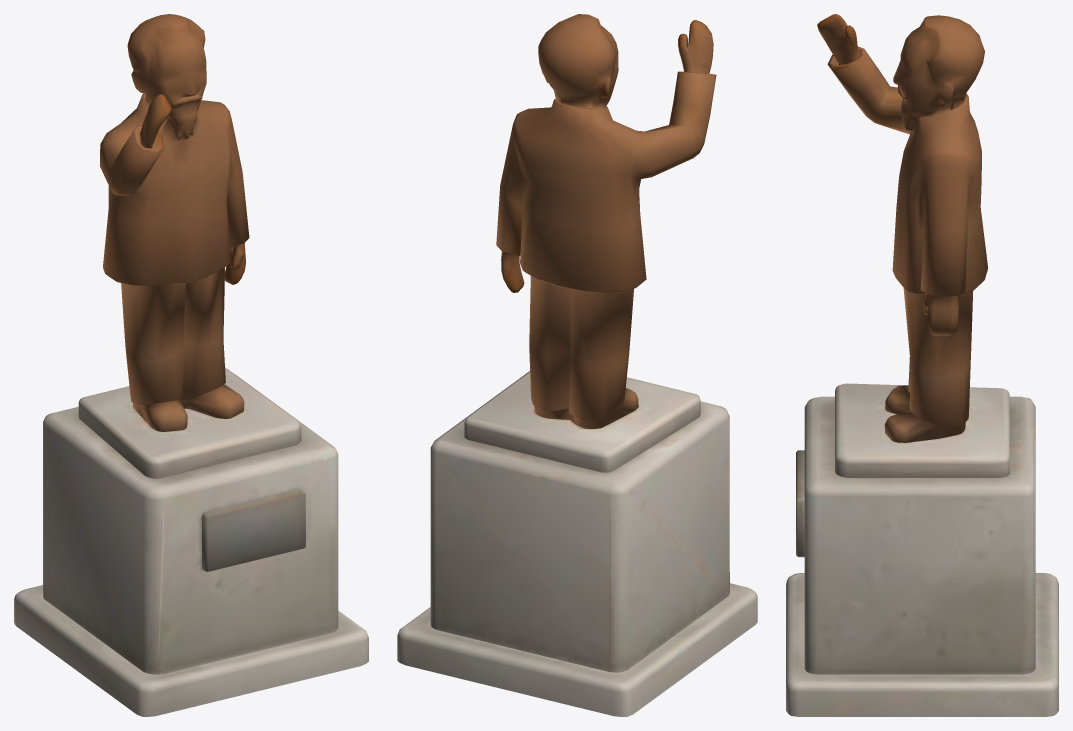
Rendered from toathichinh-statue-model.glb.
3 renders of one model, left to right at view 1: azimuth 30°, elevation 25°; view 2: azimuth 150°, elevation 25°; view 3: azimuth 270°, elevation 25°, orthographic. The views are drawn at different scales.
Visible parts, largest first — view 1: tripo_node_5ca498de-58dd-4d91-a824-d0911d7c6dad; view 2: tripo_node_5ca498de-58dd-4d91-a824-d0911d7c6dad; view 3: tripo_node_5ca498de-58dd-4d91-a824-d0911d7c6dad.
Boxes of the visible parts, <box> form: tripo_node_5ca498de-58dd-4d91-a824-d0911d7c6dad: <box>14,14,368,716</box>; tripo_node_5ca498de-58dd-4d91-a824-d0911d7c6dad: <box>397,14,757,716</box>; tripo_node_5ca498de-58dd-4d91-a824-d0911d7c6dad: <box>786,14,1058,716</box>.
Bounding box in the file's own units: 0.3882 × 0.9995 × 0.3902.
Materials: 1 (1 with a texture image).
